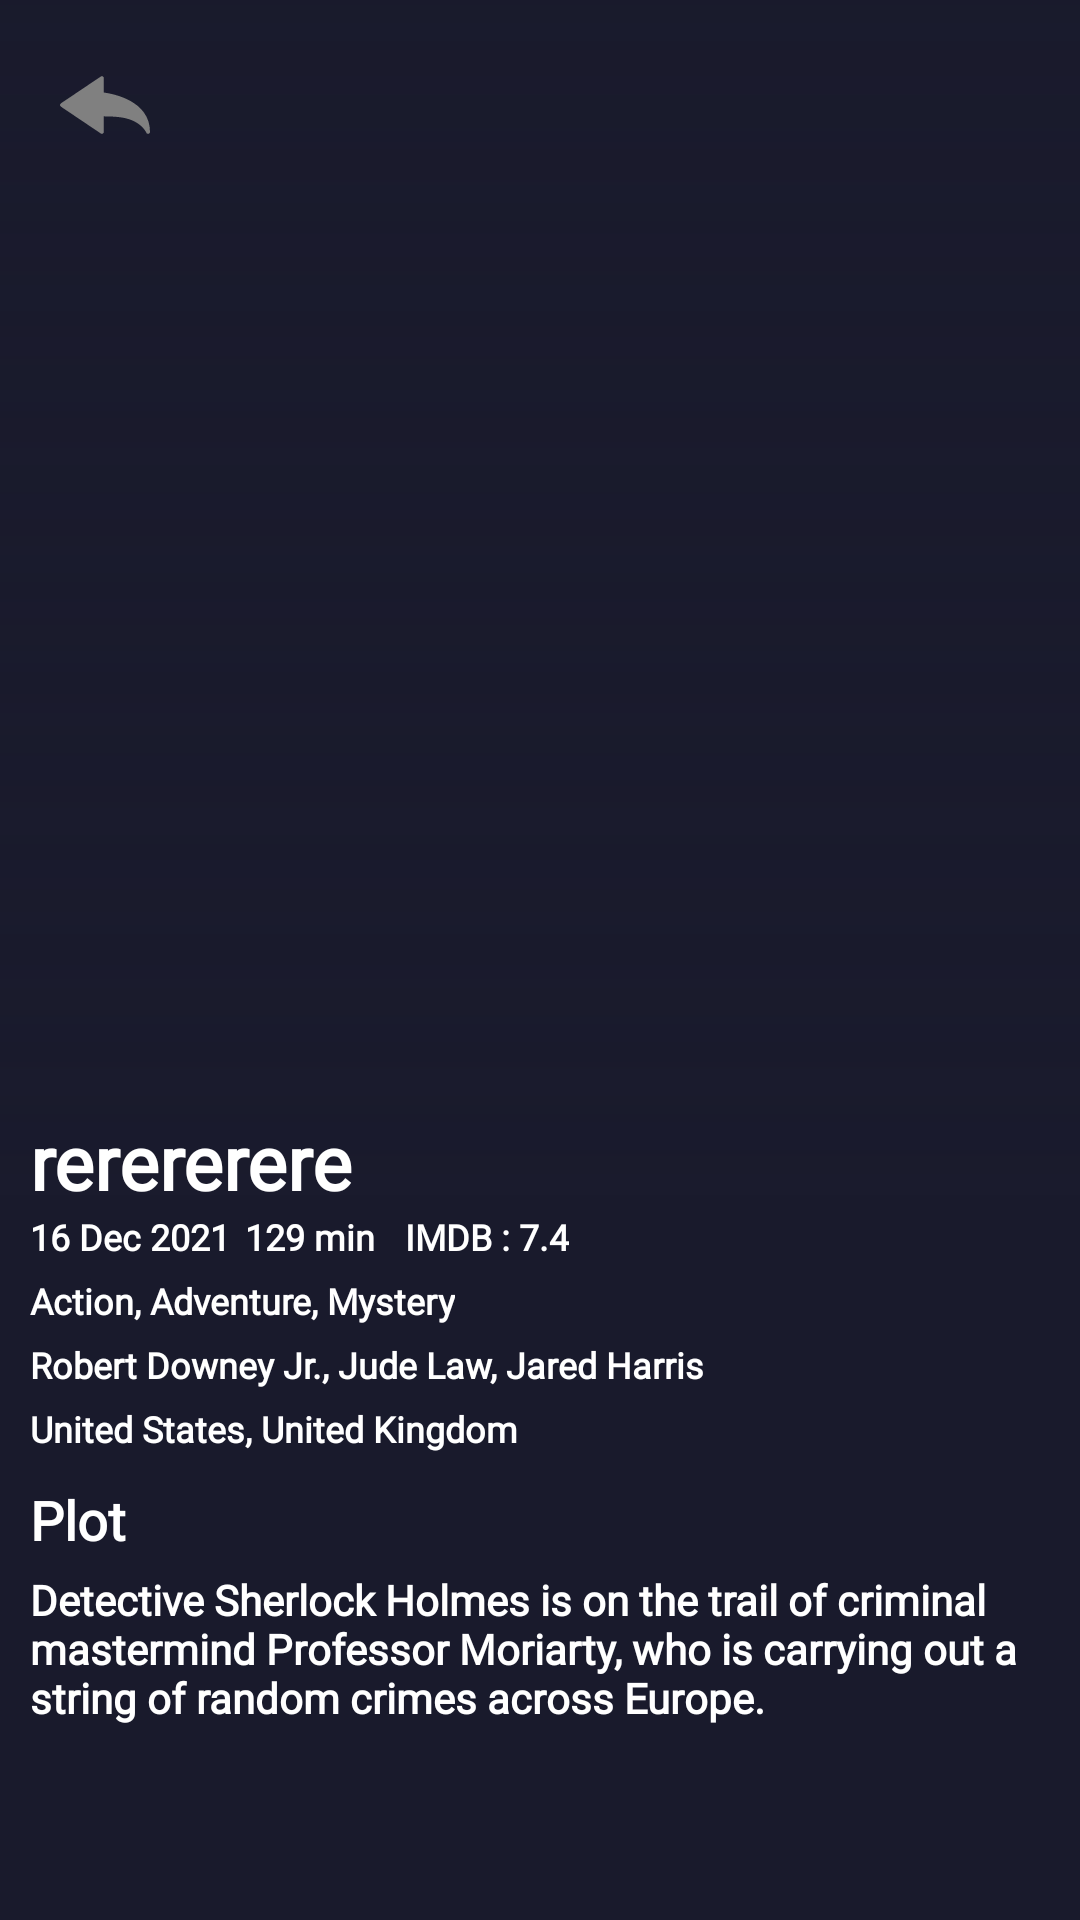

Point at icon controls on the screen. Image size 1080px x 1920px, points as point (x, y).
back: point (105, 105)
